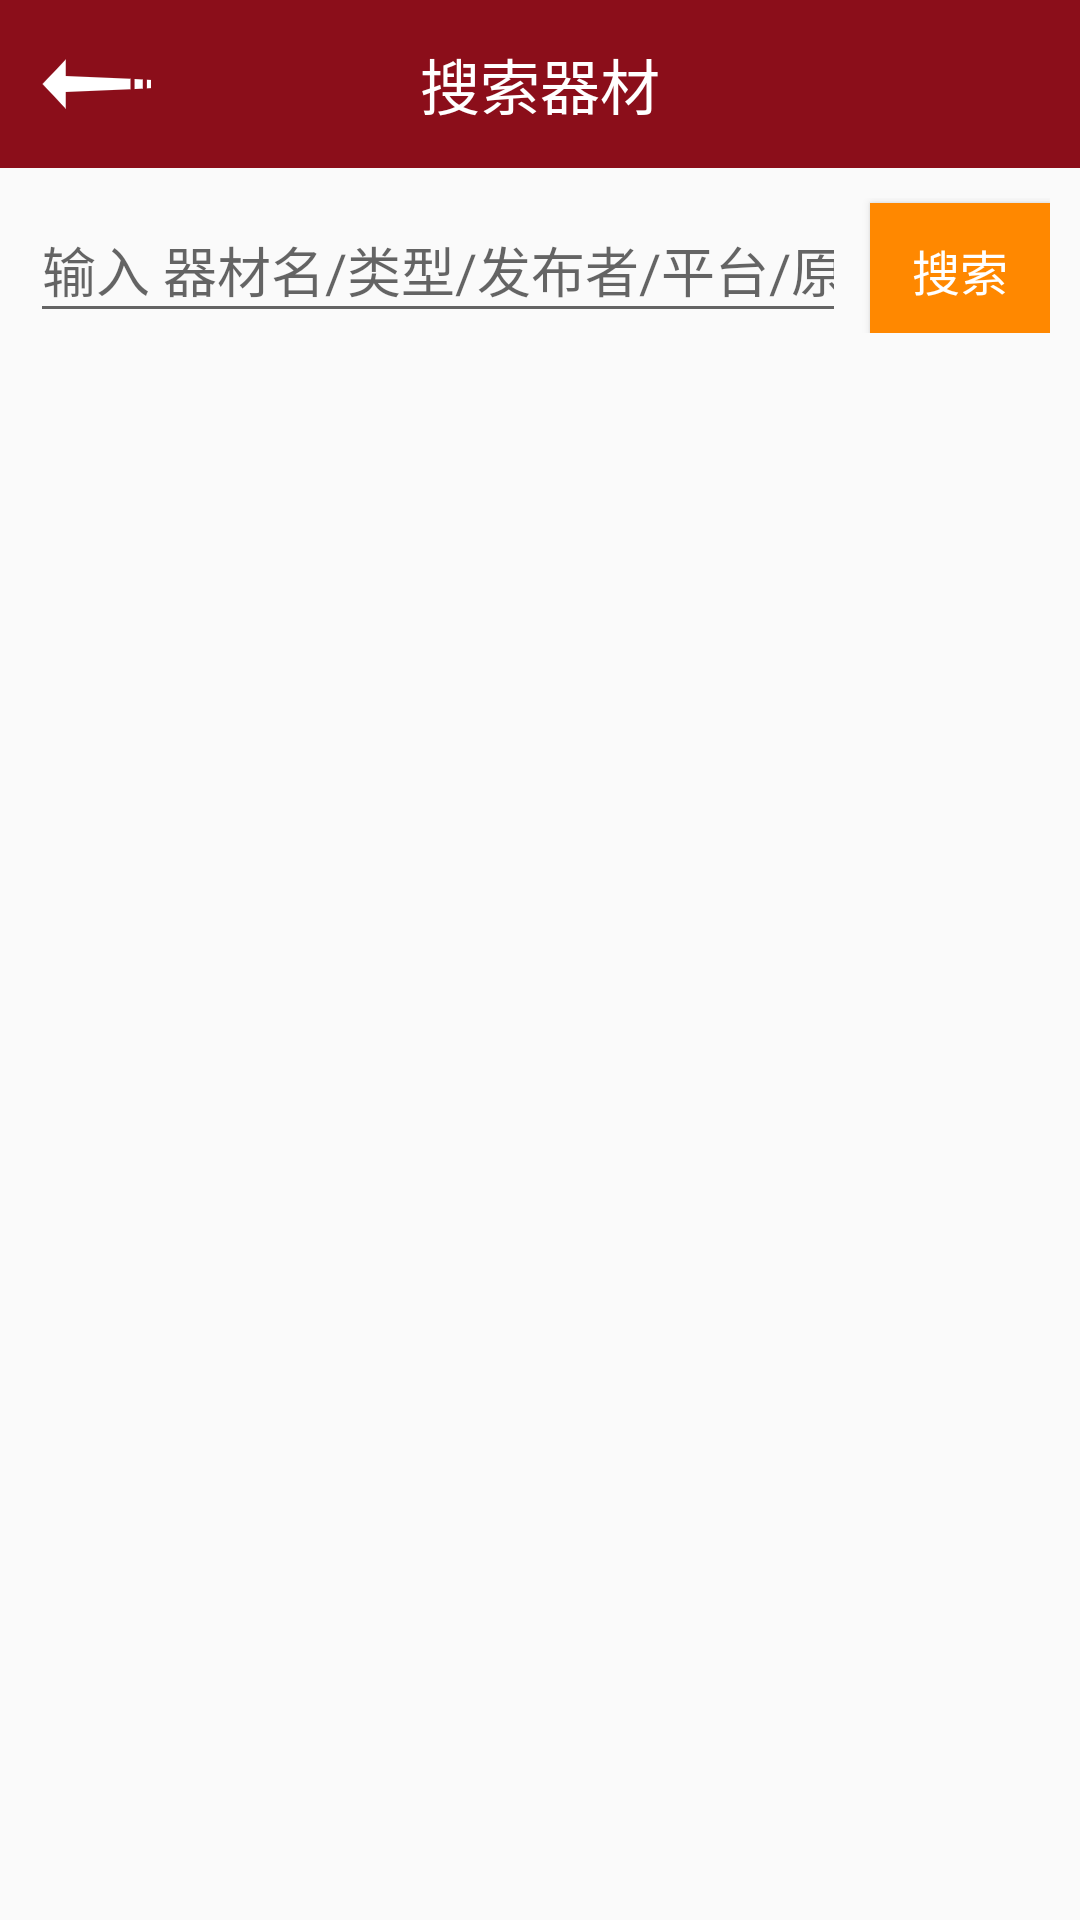

Screen size 1080 x 1920. Icon name, then its box in pixels as (x1=x1, y1=y1, x2=x2, y2=y2):
left arrow: (x1=42, y1=59, x2=151, y2=109)
